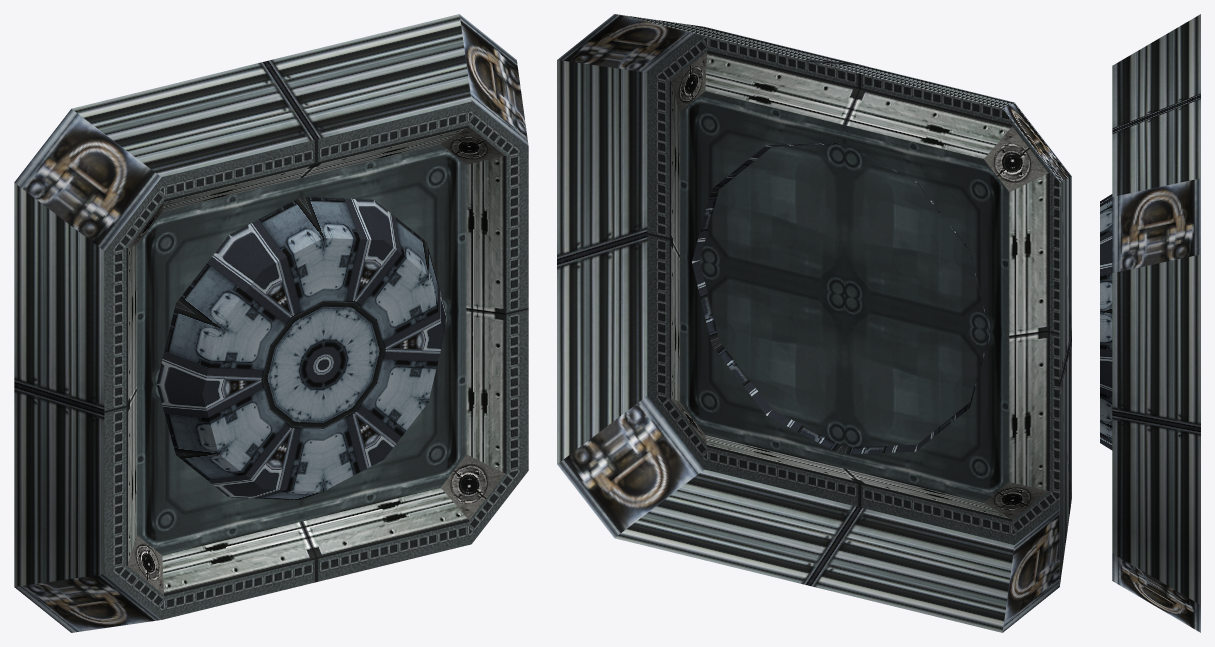
The model's file is Battery_wall_fixture_02.FBX.
3 renders of one model, left to right at view 1: azimuth 30°, elevation 25°; view 2: azimuth 150°, elevation 25°; view 3: azimuth 270°, elevation 25°, orthographic. The views are drawn at different scales.
Visible parts, largest first — view 1: Battery_wall_fixture_02; view 2: Battery_wall_fixture_02; view 3: Battery_wall_fixture_02.
Boxes of the visible parts, x1,y1,x2,y2 form: Battery_wall_fixture_02: (14, 14, 528, 632); Battery_wall_fixture_02: (557, 14, 1071, 632); Battery_wall_fixture_02: (1100, 14, 1200, 632).
Bounding box in the file's own units: 331 × 329 × 66.23.
